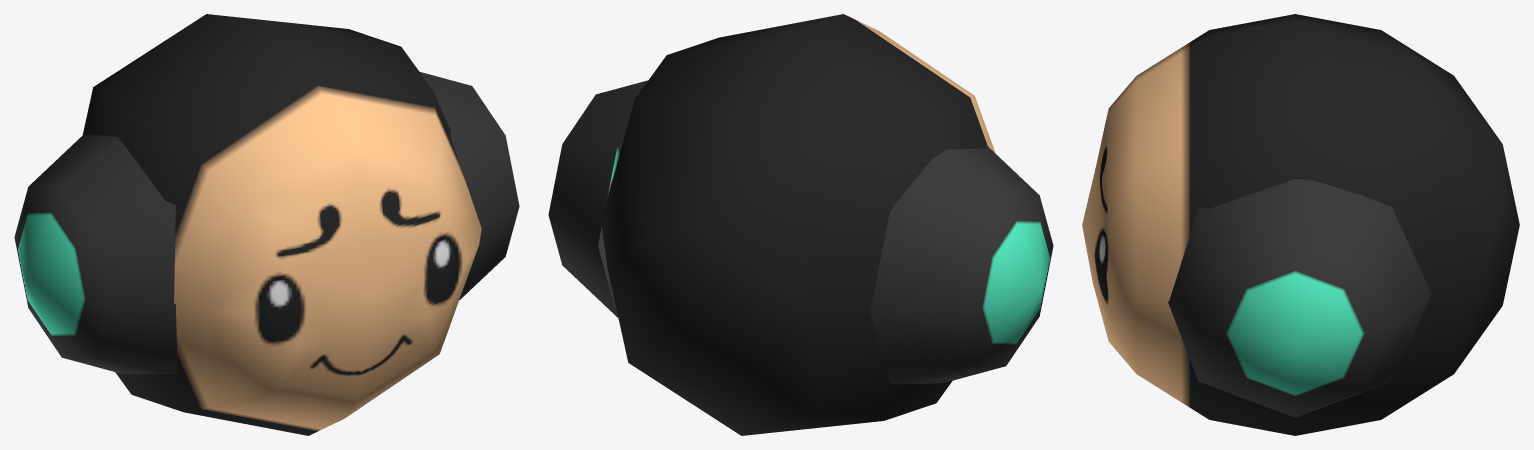
The model's file is Tympole_Head.obj.
The picture shows the model from 3 angles, left to right: view 1: azimuth 30°, elevation 25°; view 2: azimuth 150°, elevation 25°; view 3: azimuth 270°, elevation 25°; orthographic projection.
Visible parts, largest first — view 1: merged_0_0_node, merged_1_0_node; view 2: merged_0_0_node; view 3: merged_0_0_node, merged_1_0_node.
Boxes of the visible parts, <box> form: merged_0_0_node: <box>14,14,519,435</box>; merged_1_0_node: <box>248,226,467,349</box>; merged_0_0_node: <box>548,14,1053,435</box>; merged_0_0_node: <box>1082,14,1519,435</box>; merged_1_0_node: <box>1093,217,1108,309</box>.
Bounding box in the file's own units: 0.531 × 0.4198 × 0.4092.
2 materials, 2 textured.
